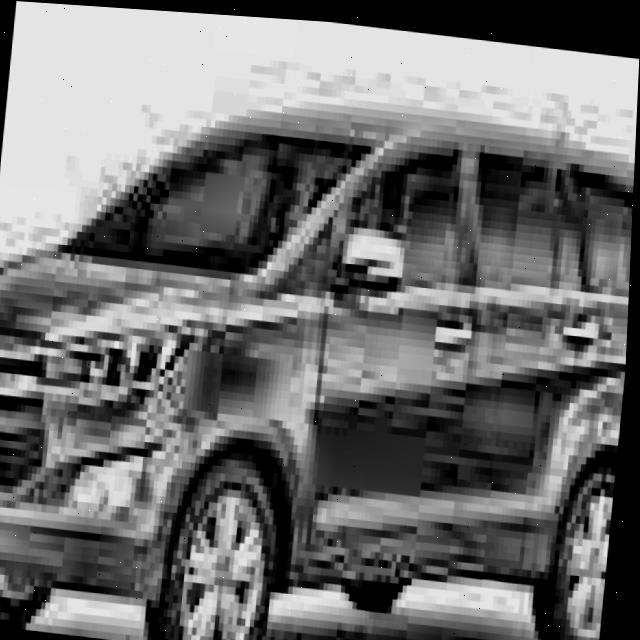light_vehicle: (0, 58, 638, 640)
